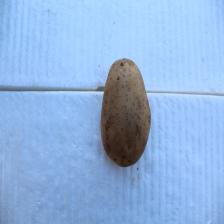Diseased-fungal potato: (101, 55, 152, 169)
